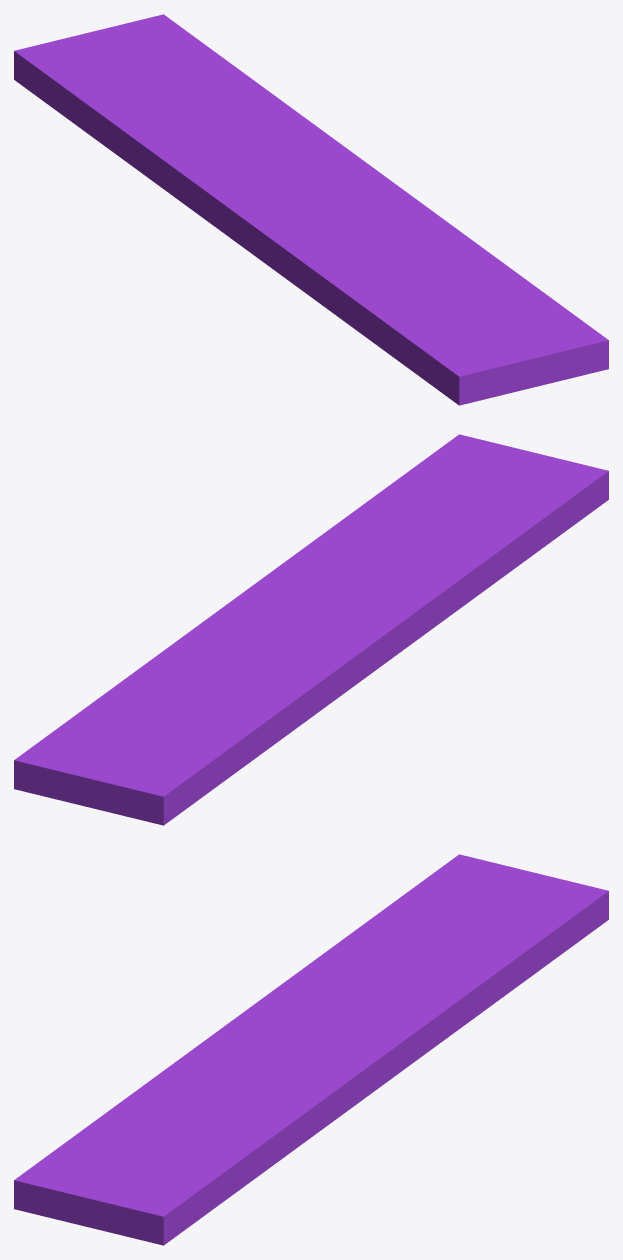
Rendered from StairsStep_131_chunks.fbx.
3 views of the same model, one above another, from view 1: azimuth 30°, elevation 25°; view 2: azimuth 150°, elevation 25°; view 3: azimuth 330°, elevation 25° (orthographic).
Parts seen in each view (by area): view 1: StairsStep_131_0, StairsStep_131_3, StairsStep_131_2; view 2: StairsStep_131_0, StairsStep_131_3, StairsStep_131_2; view 3: StairsStep_131_0, StairsStep_131_3, StairsStep_131_2, StairsStep_131_1.
Boxes of the visible parts, bbox=[...] form: StairsStep_131_0: bbox=[238, 195, 608, 405]; StairsStep_131_3: bbox=[14, 14, 300, 248]; StairsStep_131_2: bbox=[218, 54, 420, 205]; StairsStep_131_0: bbox=[296, 434, 608, 656]; StairsStep_131_3: bbox=[14, 619, 394, 825]; StairsStep_131_2: bbox=[69, 571, 315, 719]; StairsStep_131_0: bbox=[14, 1018, 326, 1245]; StairsStep_131_3: bbox=[235, 854, 608, 1031]; StairsStep_131_2: bbox=[307, 930, 554, 1081]; StairsStep_131_1: bbox=[281, 1067, 387, 1159].
Bounding box in the file's own units: 157 × 28.98 × 810.
